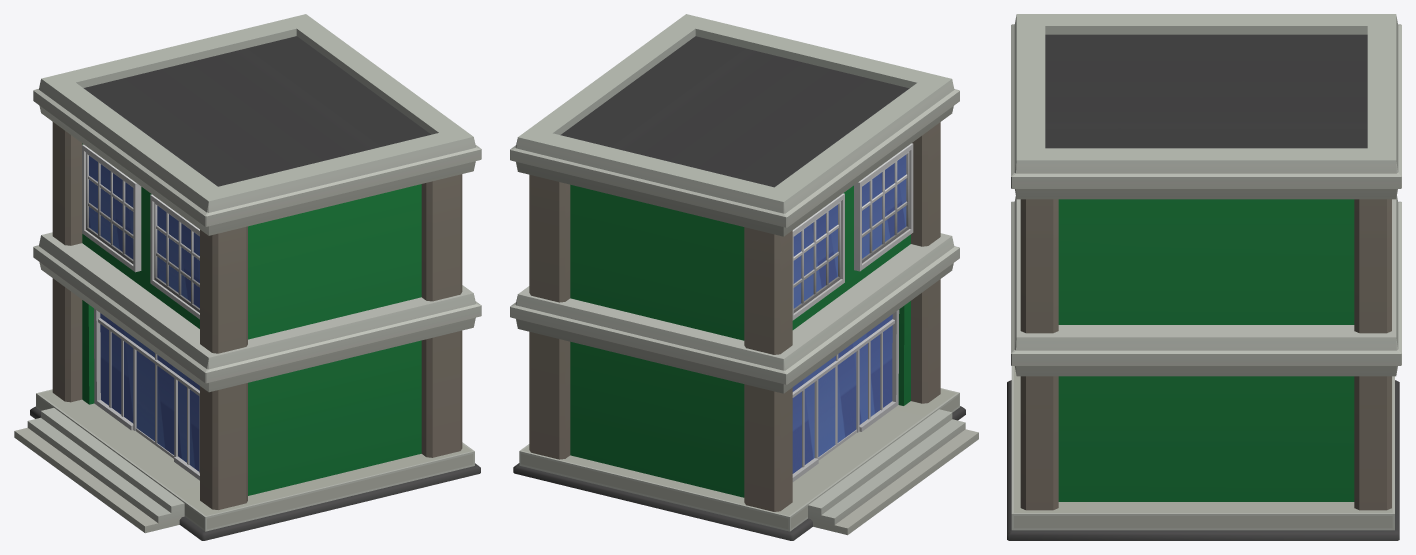
File: Building_9_2_FF.fbx
The picture shows the model from 3 angles, left to right: view 1: azimuth 30°, elevation 25°; view 2: azimuth 150°, elevation 25°; view 3: azimuth 270°, elevation 25°; orthographic projection. The views are drawn at different scales.
Visible parts, largest first — view 1: Building_9_2_FF; view 2: Building_9_2_FF; view 3: Building_9_2_FF.
Part boxes in pixels (bbox=[...]): Building_9_2_FF: bbox=[14, 14, 481, 540]; Building_9_2_FF: bbox=[510, 14, 978, 540]; Building_9_2_FF: bbox=[1007, 14, 1401, 540].
Bounding box in the file's own units: 947 × 958 × 906.
